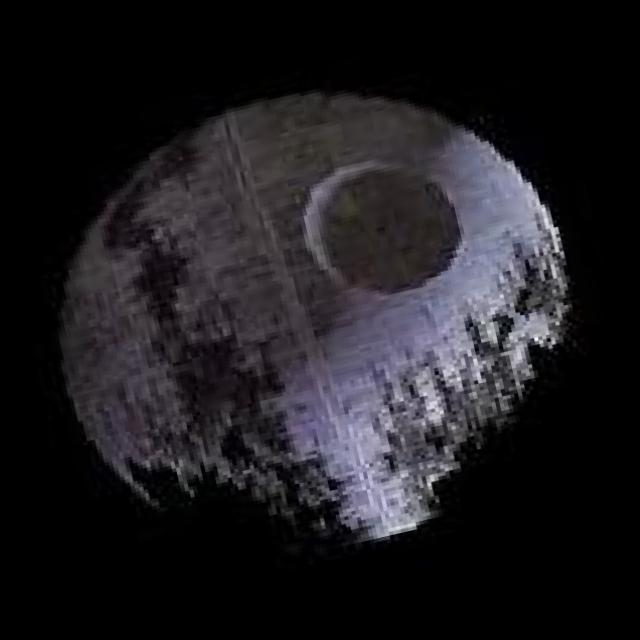Death Star: (6, 31, 630, 610)
